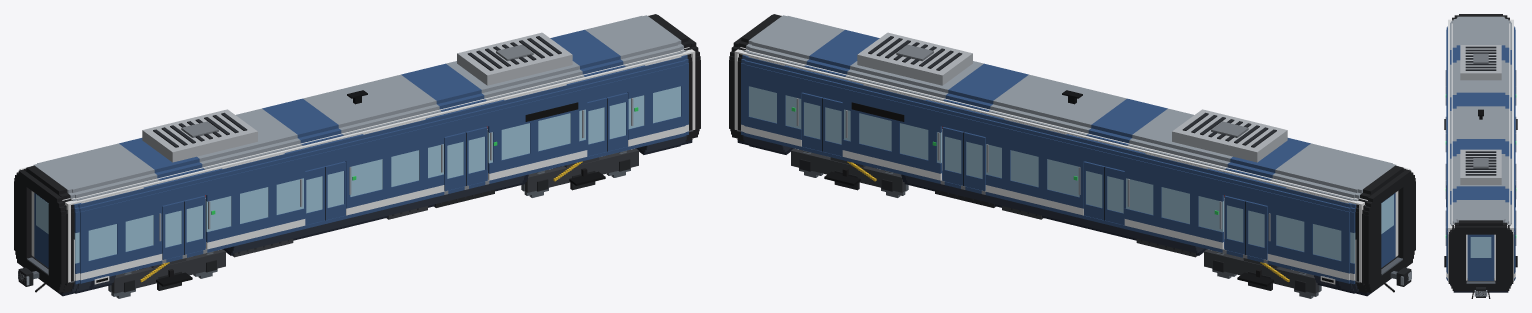
File: moskva_car.obj
3 views of the same model, side by side, from view 1: azimuth 30°, elevation 25°; view 2: azimuth 150°, elevation 25°; view 3: azimuth 270°, elevation 25° (orthographic). The views are drawn at different scales.
Visible parts, largest first — view 1: SHELL, SHELL_roof, SHELL_diaphragm, SHELL_ceiling, BOGEY_FRONT, BOGEY_REAR, EXTERNAL_DOOR_16_CG_DR3_TOGGLE_TL_-0.59_X, EXTERNAL_DOOR_4_CG_DR1_TOGGLE_TL_-0.59_X, EXTERNAL_DOOR_22_CG_DR4_TOGGLE_TL_-0.59_X, EXTERNAL_DOOR_10_CG_DR2_TOGGLE_TL_-0.59_X, EXTERNAL_DOOR_5_CG_DR1_TOGGLE_TL_0.59_X, EXTERNAL_DOOR_17_CG_DR3_TOGGLE_TL_0.59_X (+7 smaller); view 2: SHELL, SHELL_roof, SHELL_diaphragm, SHELL_ceiling, BOGEY_FRONT, BOGEY_REAR, EXTERNAL_DOOR_19_CG_DL3_TOGGLE_TL_-0.59_X, EXTERNAL_DOOR_7_CG_DL1_TOGGLE_TL_-0.59_X, EXTERNAL_DOOR_25_CG_DL4_TOGGLE_TL_-0.59_X, EXTERNAL_DOOR_13_CG_DL2_TOGGLE_TL_-0.59_X, EXTERNAL_DOOR_8_CG_DL1_TOGGLE_TL_0.59_X, EXTERNAL_DOOR_20_CG_DL3_TOGGLE_TL_0.59_X (+7 smaller); view 3: SHELL, SHELL_roof, SHELL_diaphragm, SHELL_ceiling, CONNECTING_DOOR_2_CG_CF_TOGGLE_TL_0.98_Z, SHELL_handle, SHELL_end, FRAME, SHELL_gangway, BOGEY_FRONT.
Part boxes in pixels (bbox=[...]): SHELL: bbox=[23, 14, 695, 296]; SHELL_roof: bbox=[142, 32, 572, 162]; SHELL_diaphragm: bbox=[14, 14, 700, 292]; SHELL_ceiling: bbox=[22, 47, 692, 205]; BOGEY_FRONT: bbox=[524, 148, 638, 192]; BOGEY_REAR: bbox=[111, 249, 225, 293]; EXTERNAL_DOOR_16_CG_DR3_TOGGLE_TL_-0.59_X: bbox=[444, 132, 466, 191]; EXTERNAL_DOOR_4_CG_DR1_TOGGLE_TL_-0.59_X: bbox=[162, 201, 184, 259]; EXTERNAL_DOOR_22_CG_DR4_TOGGLE_TL_-0.59_X: bbox=[586, 97, 607, 156]; EXTERNAL_DOOR_10_CG_DR2_TOGGLE_TL_-0.59_X: bbox=[304, 166, 325, 225]; EXTERNAL_DOOR_5_CG_DR1_TOGGLE_TL_0.59_X: bbox=[183, 195, 205, 254]; EXTERNAL_DOOR_17_CG_DR3_TOGGLE_TL_0.59_X: bbox=[466, 127, 487, 185]; SHELL: bbox=[734, 14, 1406, 296]; SHELL_roof: bbox=[857, 32, 1287, 162]; SHELL_diaphragm: bbox=[729, 14, 1415, 292]; SHELL_ceiling: bbox=[737, 48, 1407, 205]; BOGEY_FRONT: bbox=[791, 148, 905, 192]; BOGEY_REAR: bbox=[1204, 249, 1318, 293]; EXTERNAL_DOOR_19_CG_DL3_TOGGLE_TL_-0.59_X: bbox=[963, 132, 985, 191]; EXTERNAL_DOOR_7_CG_DL1_TOGGLE_TL_-0.59_X: bbox=[1245, 201, 1267, 259]; EXTERNAL_DOOR_25_CG_DL4_TOGGLE_TL_-0.59_X: bbox=[822, 97, 843, 156]; EXTERNAL_DOOR_13_CG_DL2_TOGGLE_TL_-0.59_X: bbox=[1104, 166, 1125, 225]; EXTERNAL_DOOR_8_CG_DL1_TOGGLE_TL_0.59_X: bbox=[1224, 195, 1246, 254]; EXTERNAL_DOOR_20_CG_DL3_TOGGLE_TL_0.59_X: bbox=[942, 127, 963, 185]; SHELL: bbox=[1446, 14, 1515, 292]; SHELL_roof: bbox=[1460, 45, 1501, 184]; SHELL_diaphragm: bbox=[1448, 15, 1513, 290]; SHELL_ceiling: bbox=[1448, 20, 1513, 227]; CONNECTING_DOOR_2_CG_CF_TOGGLE_TL_0.98_Z: bbox=[1468, 234, 1493, 280]; SHELL_handle: bbox=[1445, 70, 1516, 245]; SHELL_end: bbox=[1448, 19, 1513, 280]; FRAME: bbox=[1471, 287, 1490, 298]; SHELL_gangway: bbox=[1466, 281, 1495, 283]; BOGEY_FRONT: bbox=[1444, 256, 1517, 267].
Size of the model in its own units: 20.44 by 3.96 by 2.84.
Materials: 1 (1 with a texture image).
